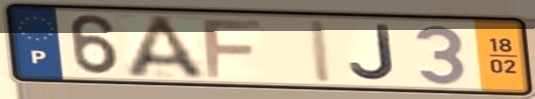3: (412, 22, 470, 88)
6: (67, 13, 121, 76)
A: (122, 13, 212, 82)
F: (200, 18, 265, 80)
I: (306, 17, 337, 85)
J: (347, 23, 399, 83)
